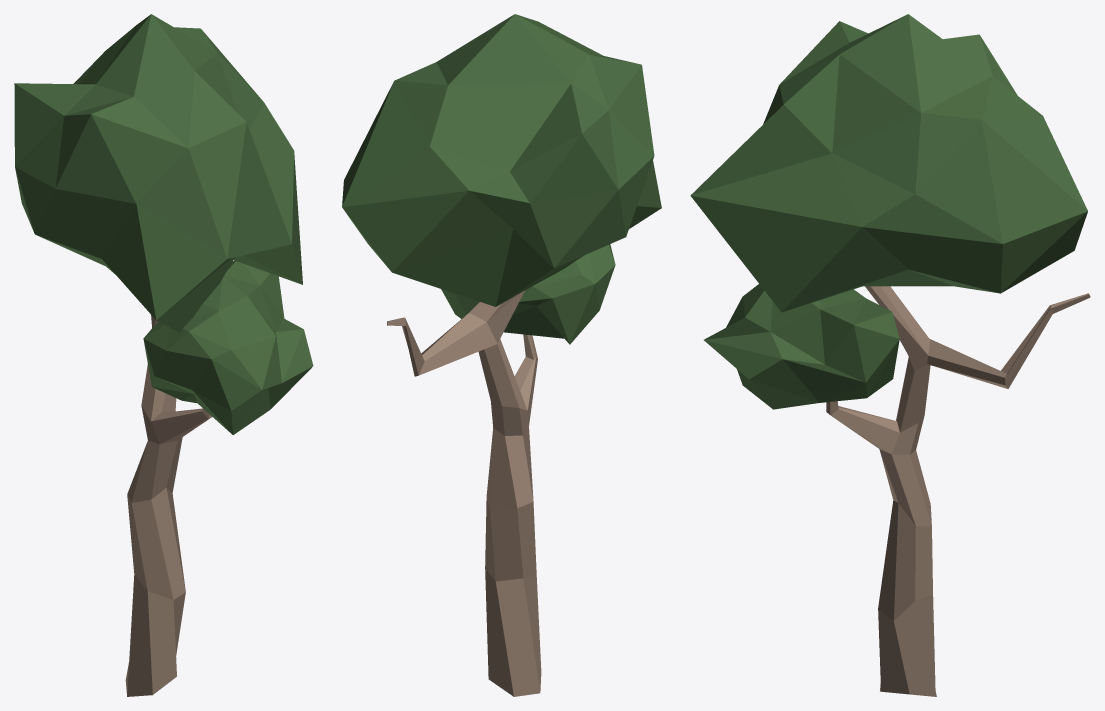
The model's file is tree1.fbx.
3 renders of one model, left to right at view 1: azimuth 30°, elevation 25°; view 2: azimuth 150°, elevation 25°; view 3: azimuth 270°, elevation 25°, orthographic. The views are drawn at different scales.
Parts seen in each view (by area): view 1: Icosphere, Icosphere.001, Tree; view 2: Icosphere, Tree, Icosphere.001; view 3: Icosphere, Tree, Icosphere.001.
Part boxes in pixels (x1=…): Icosphere: x1=14, y1=14, x2=302, y2=332; Icosphere.001: x1=143, y1=260, x2=313, y2=434; Tree: x1=125, y1=315, x2=211, y2=696; Icosphere: x1=342, y1=14, x2=661, y2=306; Tree: x1=387, y1=290, x2=541, y2=696; Icosphere.001: x1=441, y1=244, x2=615, y2=344; Icosphere: x1=690, y1=14, x2=1087, y2=312; Tree: x1=826, y1=286, x2=1090, y2=696; Icosphere.001: x1=704, y1=284, x2=899, y2=409.
Bounding box in the file's own units: 198 × 521 × 273.
